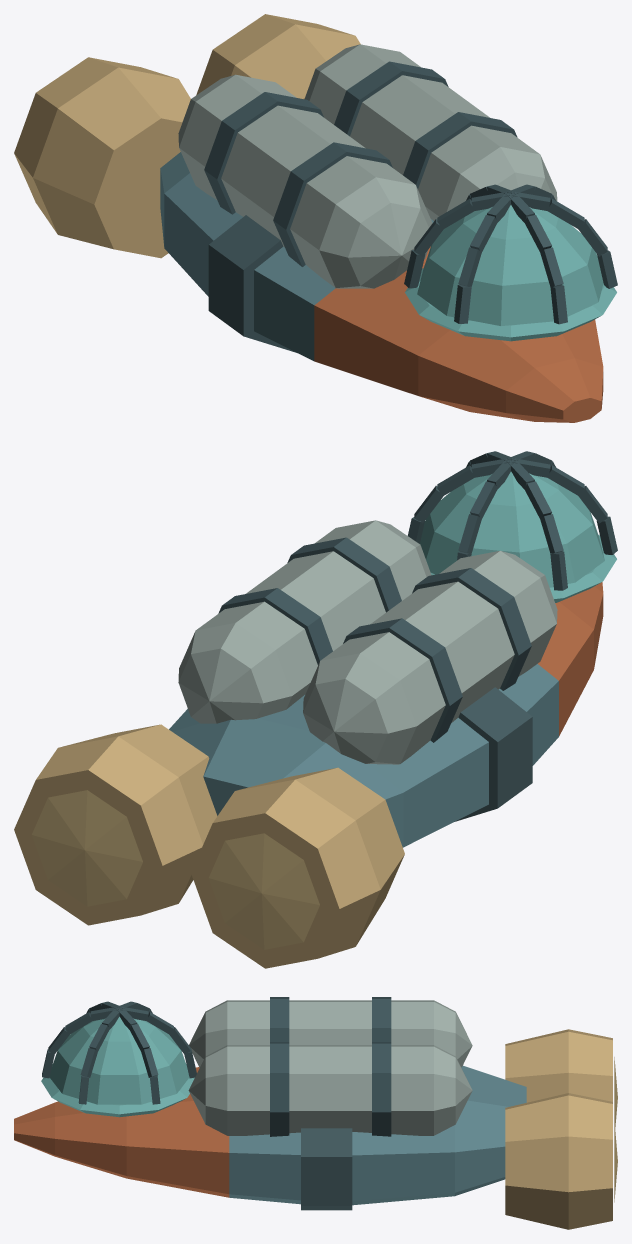
Rendered from hauler.gltf.
3 views of the same model, one above another, from view 1: azimuth 30°, elevation 25°; view 2: azimuth 150°, elevation 25°; view 3: azimuth 270°, elevation 25° (orthographic). The views are drawn at different scales.
Visible parts, largest first — view 1: cargo, hull, engines, cabin; view 2: engines, cargo, hull, cabin; view 3: cargo, hull, engines, cabin.
Part boxes in pixels (left/top/right/bottom): cargo: left=178, top=44, right=557, bottom=288; hull: left=160, top=152, right=603, bottom=422; engines: left=14, top=14, right=360, bottom=258; cabin: left=404, top=184, right=617, bottom=341; engines: left=14, top=724, right=404, bottom=968; cargo: left=178, top=520, right=557, bottom=764; hull: left=169, top=582, right=603, bottom=847; cabin: left=407, top=451, right=617, bottom=602; cargo: left=188, top=997, right=472, bottom=1136; hull: left=14, top=1065, right=526, bottom=1210; engines: left=505, top=1029, right=617, bottom=1229; cabin: left=41, top=1001, right=196, bottom=1117.
Bounding box in the file's own units: 1.97 × 1.37 × 4.01.
